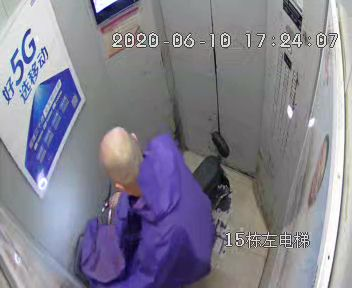Electric-bicycle: (75, 131, 232, 288)
